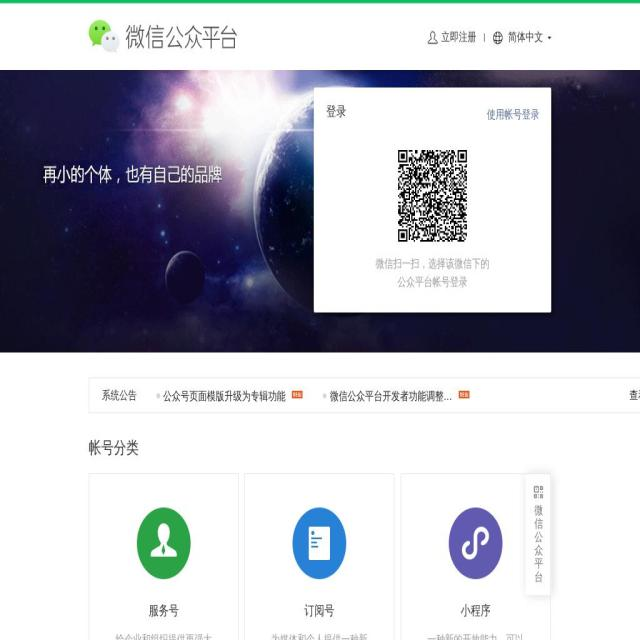button: (163, 379, 286, 413), (330, 379, 452, 413), (427, 23, 476, 50), (487, 105, 539, 123), (629, 388, 640, 402)
heading: (89, 434, 640, 462), (89, 20, 426, 53), (326, 100, 346, 122)
image: (394, 145, 470, 247), (137, 508, 191, 580), (292, 508, 346, 580), (448, 508, 502, 580), (292, 391, 304, 402), (458, 391, 470, 402)
text: (326, 254, 539, 273), (326, 272, 539, 291), (526, 474, 551, 595), (493, 23, 551, 50), (114, 630, 213, 640), (270, 630, 369, 640), (426, 630, 525, 640), (102, 388, 137, 402), (149, 604, 179, 618), (304, 604, 334, 618), (460, 604, 490, 618), (156, 378, 161, 412), (322, 378, 327, 412), (629, 388, 640, 402)
